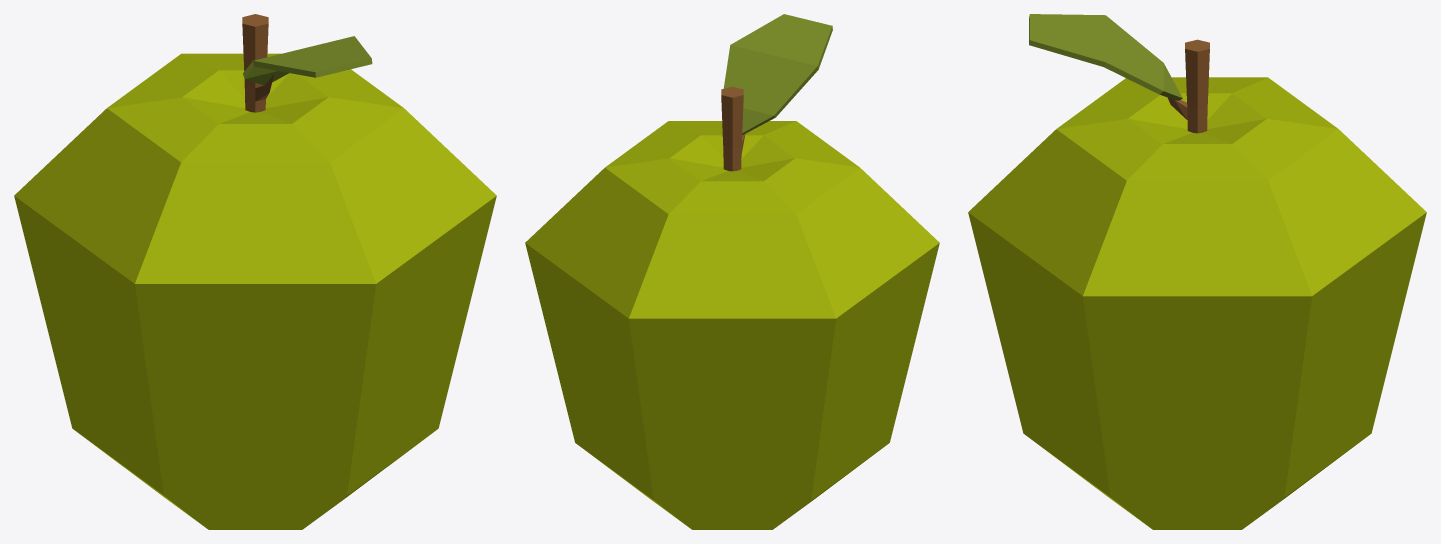
Rendered from Apple_Green.fbx.
3 renders of one model, left to right at view 1: azimuth 30°, elevation 25°; view 2: azimuth 150°, elevation 25°; view 3: azimuth 270°, elevation 25°, orthographic. The views are drawn at different scales.
Parts seen in each view (by area): view 1: Apple_Green_All, Apple_Green_Piece; view 2: Apple_Green_All, Apple_Green_Piece; view 3: Apple_Green_All, Apple_Green_Piece.
Part boxes in pixels (<box>): Apple_Green_All: <box>14,14,496,529</box>; Apple_Green_Piece: <box>14,16,373,529</box>; Apple_Green_All: <box>525,14,939,529</box>; Apple_Green_Piece: <box>631,89,939,528</box>; Apple_Green_All: <box>968,14,1426,529</box>; Apple_Green_Piece: <box>1129,41,1266,127</box>.
Size of the model in its own units: 6.99 by 9.14 by 8.08.
